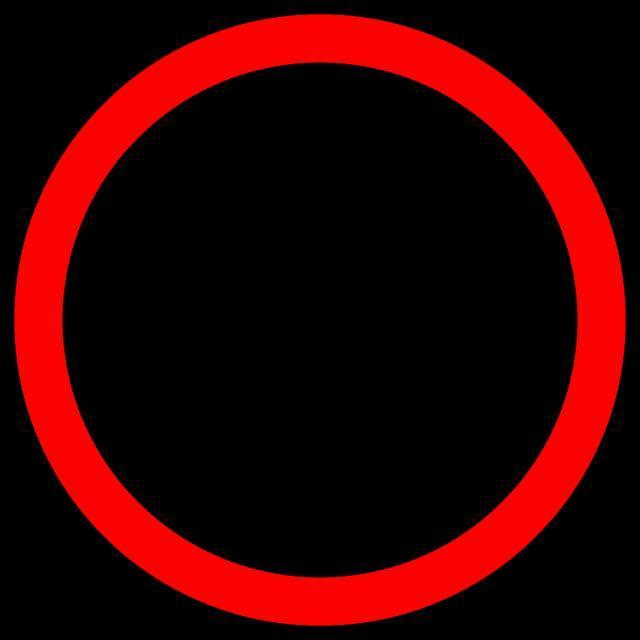Circle: (12, 12, 626, 624)
